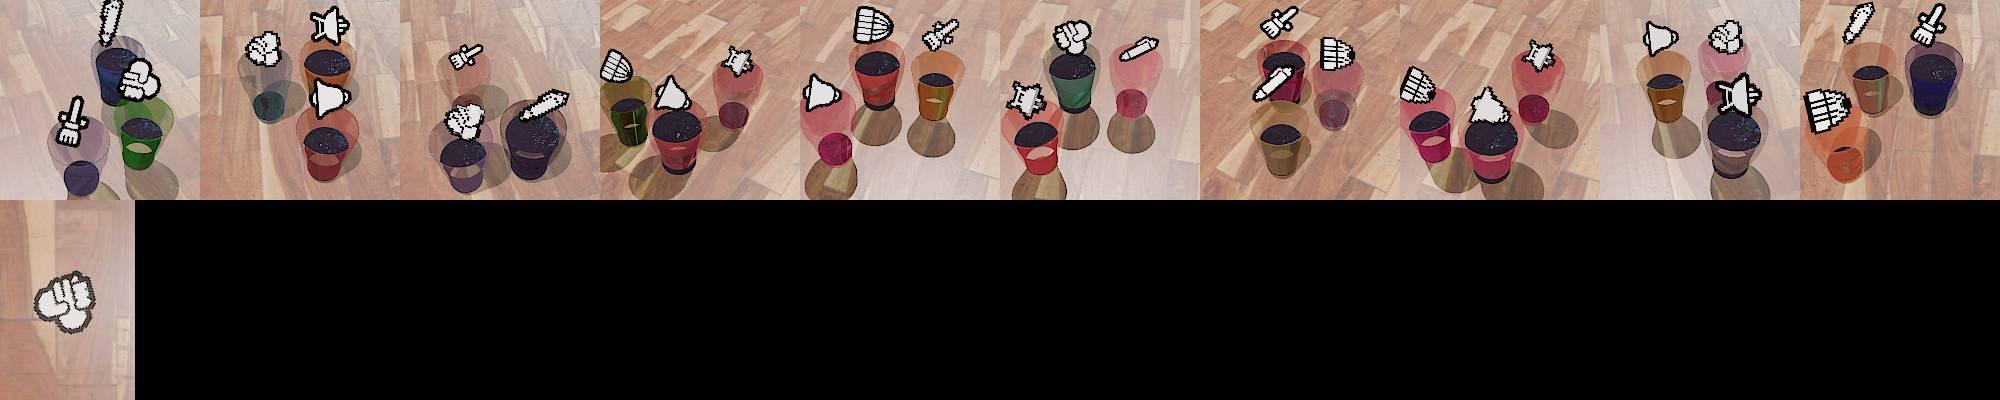icon: (31, 270, 95, 334), (1713, 71, 1762, 118), (1803, 87, 1851, 132), (1465, 84, 1511, 125), (1253, 61, 1298, 102), (55, 93, 89, 147), (117, 58, 160, 100), (518, 87, 569, 122), (310, 76, 351, 118), (445, 99, 486, 140), (309, 4, 349, 46), (853, 5, 895, 45), (1912, 3, 1949, 47), (1399, 65, 1437, 105), (1052, 19, 1093, 56), (1007, 79, 1046, 117), (801, 73, 840, 111), (244, 31, 284, 68), (652, 74, 692, 111), (1842, 1, 1875, 44), (922, 16, 959, 53), (1642, 20, 1678, 57), (1260, 5, 1298, 40), (1709, 18, 1744, 55), (97, 0, 124, 47), (599, 48, 633, 83), (1319, 37, 1355, 70), (1118, 35, 1159, 63), (720, 45, 755, 77), (1523, 39, 1555, 71), (448, 43, 483, 71)
